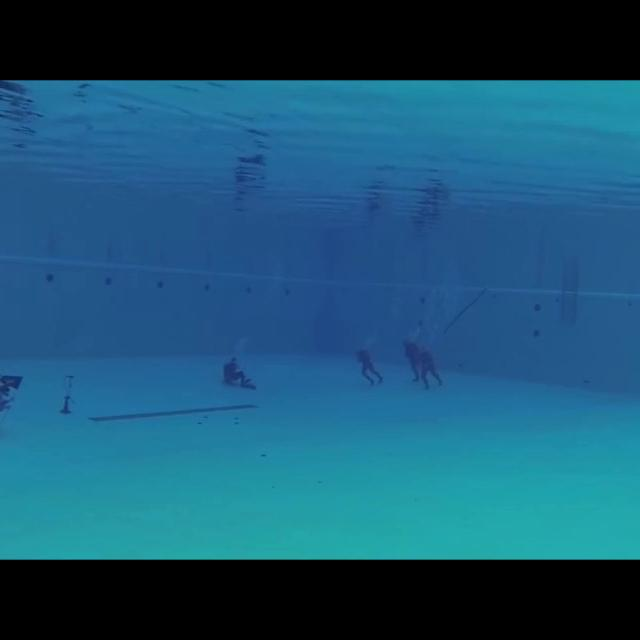human: (416, 340, 451, 396), (0, 369, 28, 437), (352, 337, 386, 390), (220, 350, 259, 394), (401, 332, 428, 389)
